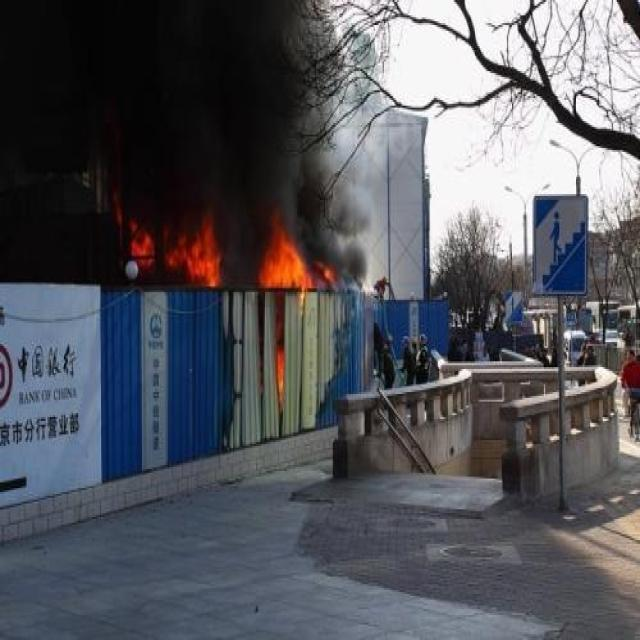Fire: (111, 202, 233, 286), (250, 202, 342, 288), (264, 338, 292, 414)
Smoke: (4, 0, 388, 223)
